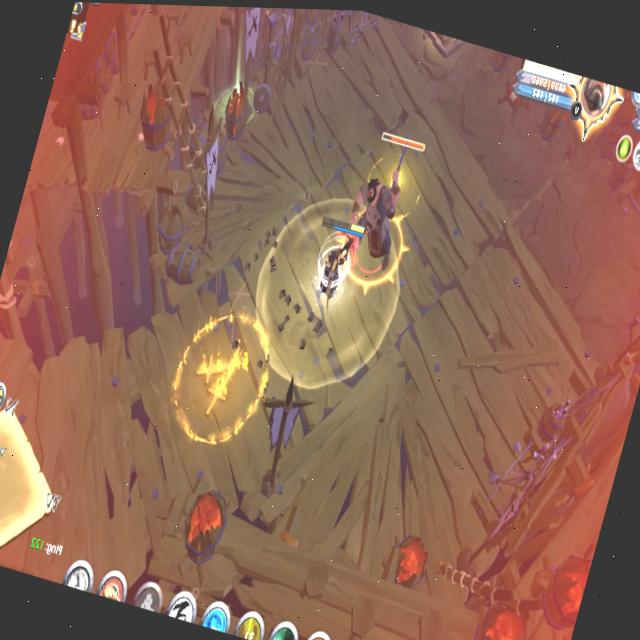ore: (328, 118, 430, 296)
red: (296, 202, 372, 319)
